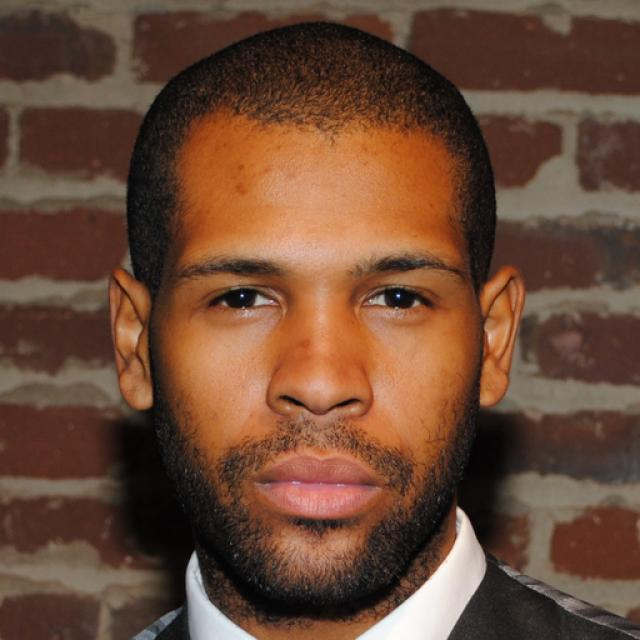neutral: (152, 109, 482, 610)
